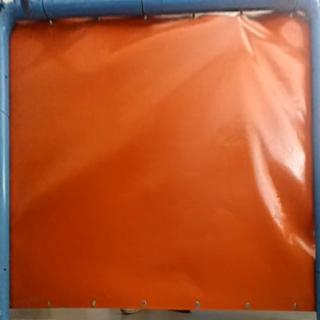Hit-hRxx: (228, 14, 248, 24)
